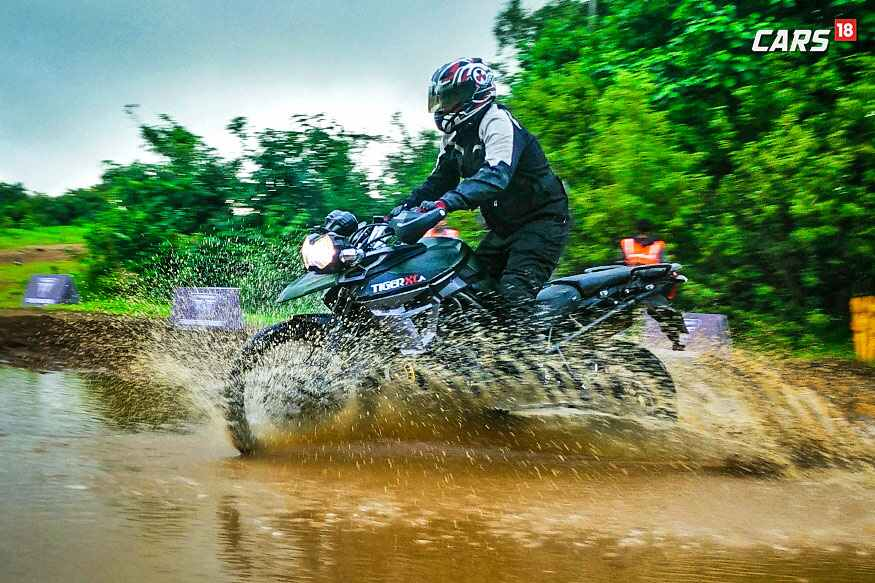Bike: (274, 214, 678, 372)
